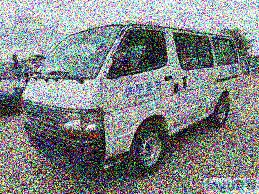van: (20, 21, 240, 174)
